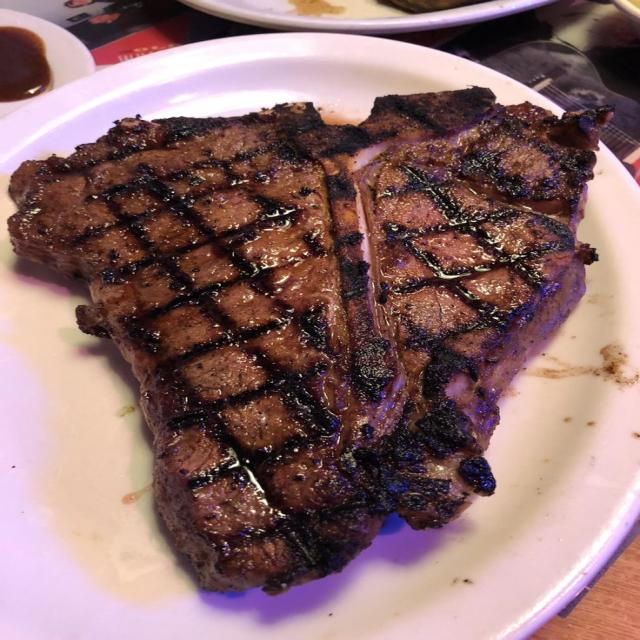beef steak: (10, 89, 609, 592)
